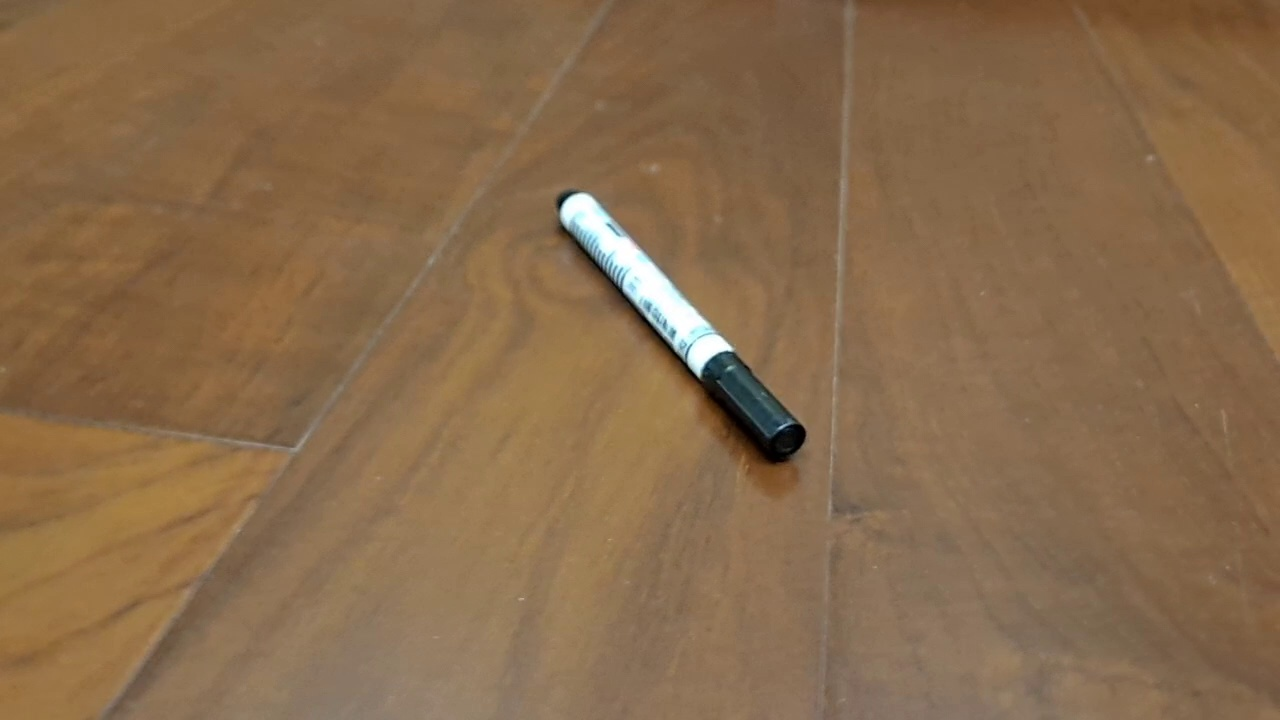pen: (555, 188, 807, 464)
